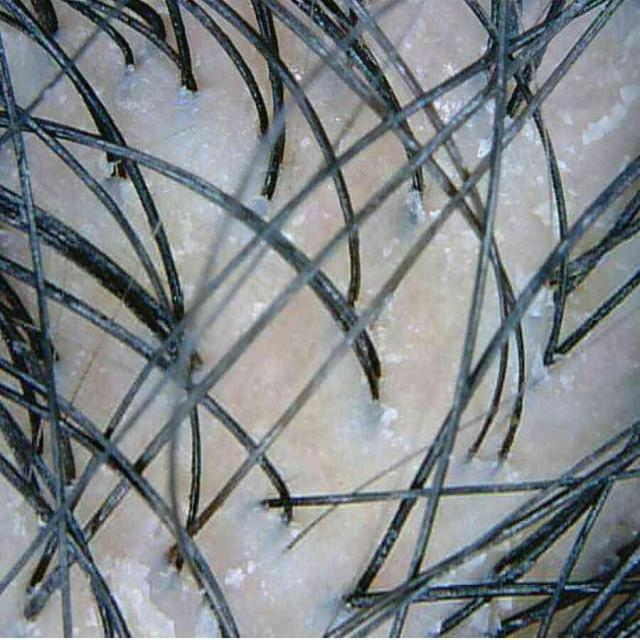d: (105, 557, 174, 638), (582, 85, 640, 145), (393, 188, 426, 225), (376, 402, 399, 438), (530, 287, 554, 316), (222, 561, 245, 589), (474, 134, 494, 158), (496, 595, 517, 616)
